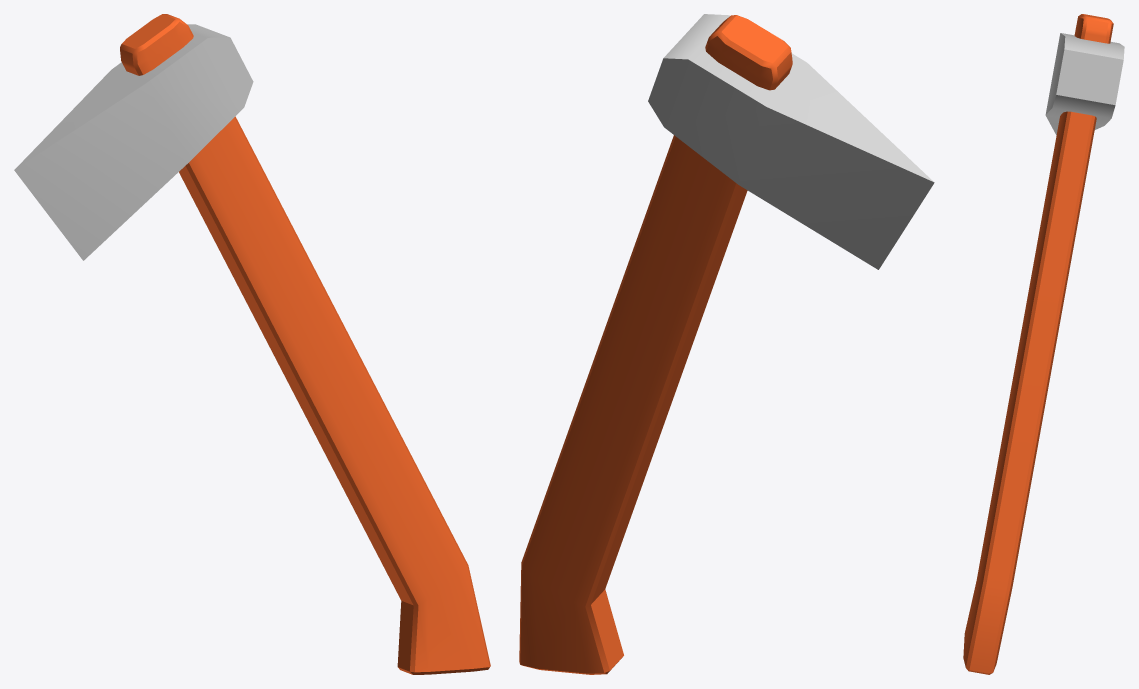
The model's file is axe hovering_000.FBX.
3 views of the same model, side by side, from view 1: azimuth 30°, elevation 25°; view 2: azimuth 150°, elevation 25°; view 3: azimuth 270°, elevation 25° (orthographic). The views are drawn at different scales.
Visible parts, largest first — view 1: Axe_003; view 2: Axe_003; view 3: Axe_003.
Part boxes in pixels (left/top/right/bottom): Axe_003: left=14, top=14, right=490, bottom=674; Axe_003: left=519, top=14, right=934, bottom=674; Axe_003: left=963, top=14, right=1124, bottom=674.
Size of the model in its own units: 23.11 by 35.56 by 9.3.
